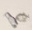microplastic: (4, 11, 29, 28)
